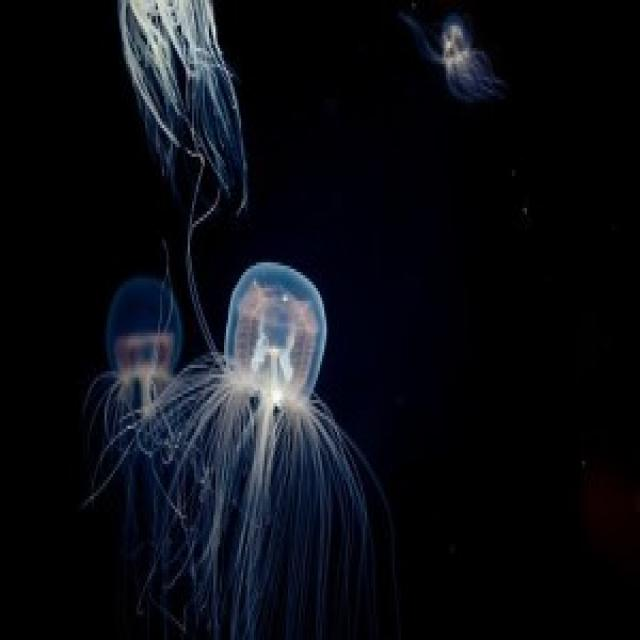Jellyfish: (190, 255, 333, 549), (109, 0, 263, 177), (100, 258, 184, 472), (439, 17, 479, 95)
